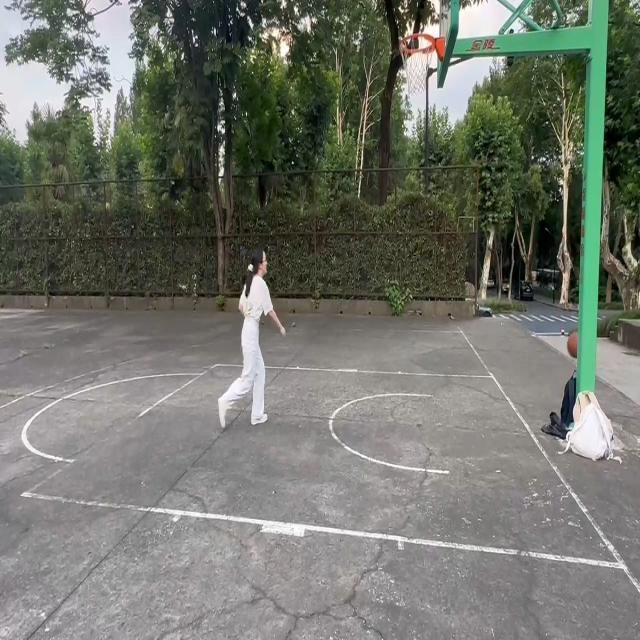basketball: (400, 34, 439, 98)
rim: (568, 334, 578, 357)
